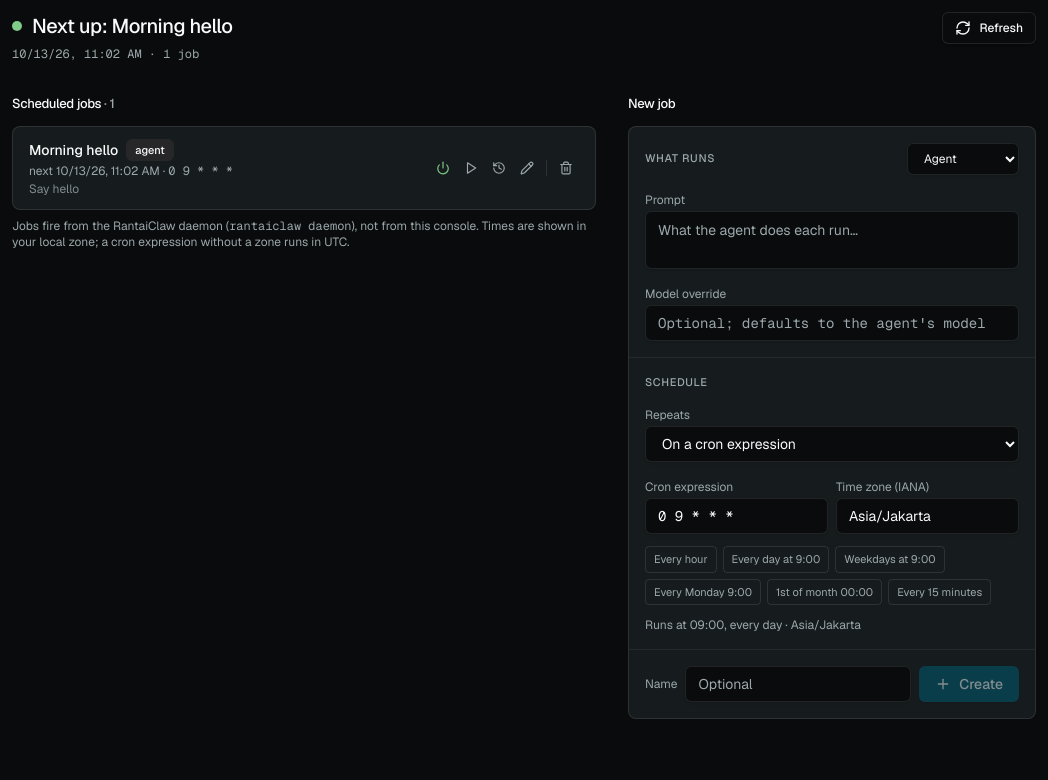
Test: CronPanel create › prefills the zone with the browser's and says UTC when it is blank
The image size is (1048, 780).
expect the text "Morning hello" is shown: met, box [29, 140, 118, 160]
expect the text "Runs at 09:00, every day · Asia/Jakarta" is shown: met, box [645, 617, 861, 633]
Clear the field labelled "Time zone (IANA)" at (928, 516), box [836, 498, 1019, 534]
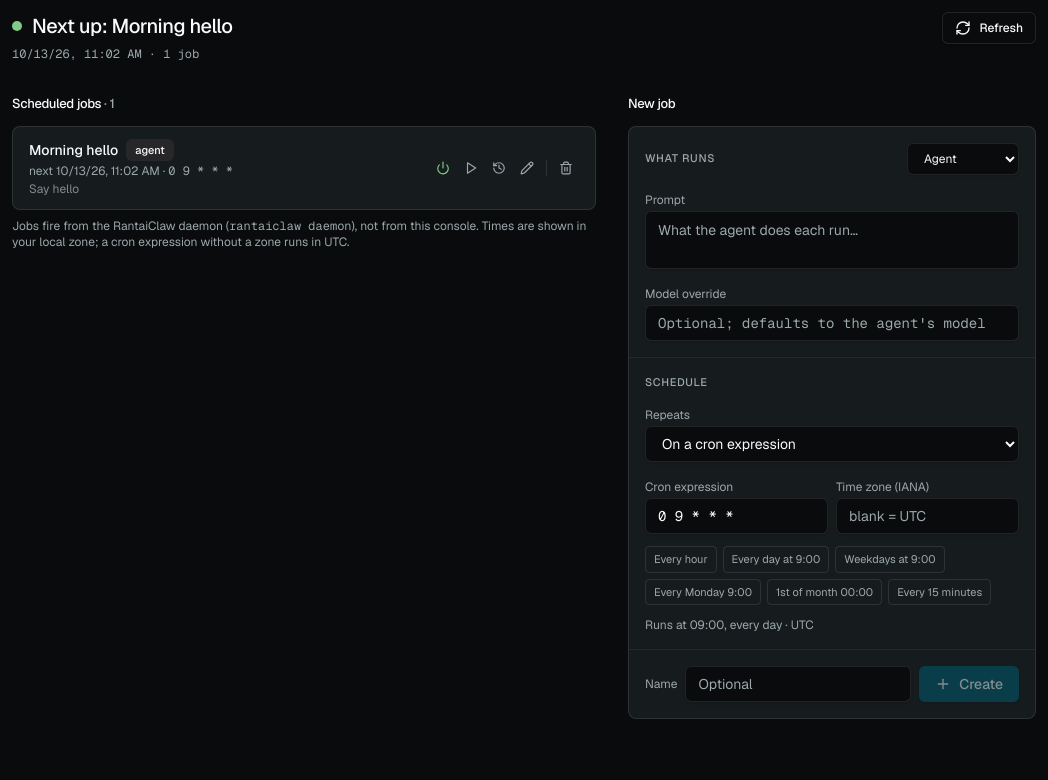
expect the text "Runs at 09:00, every day · UTC" is shown: met, box [645, 617, 814, 633]
